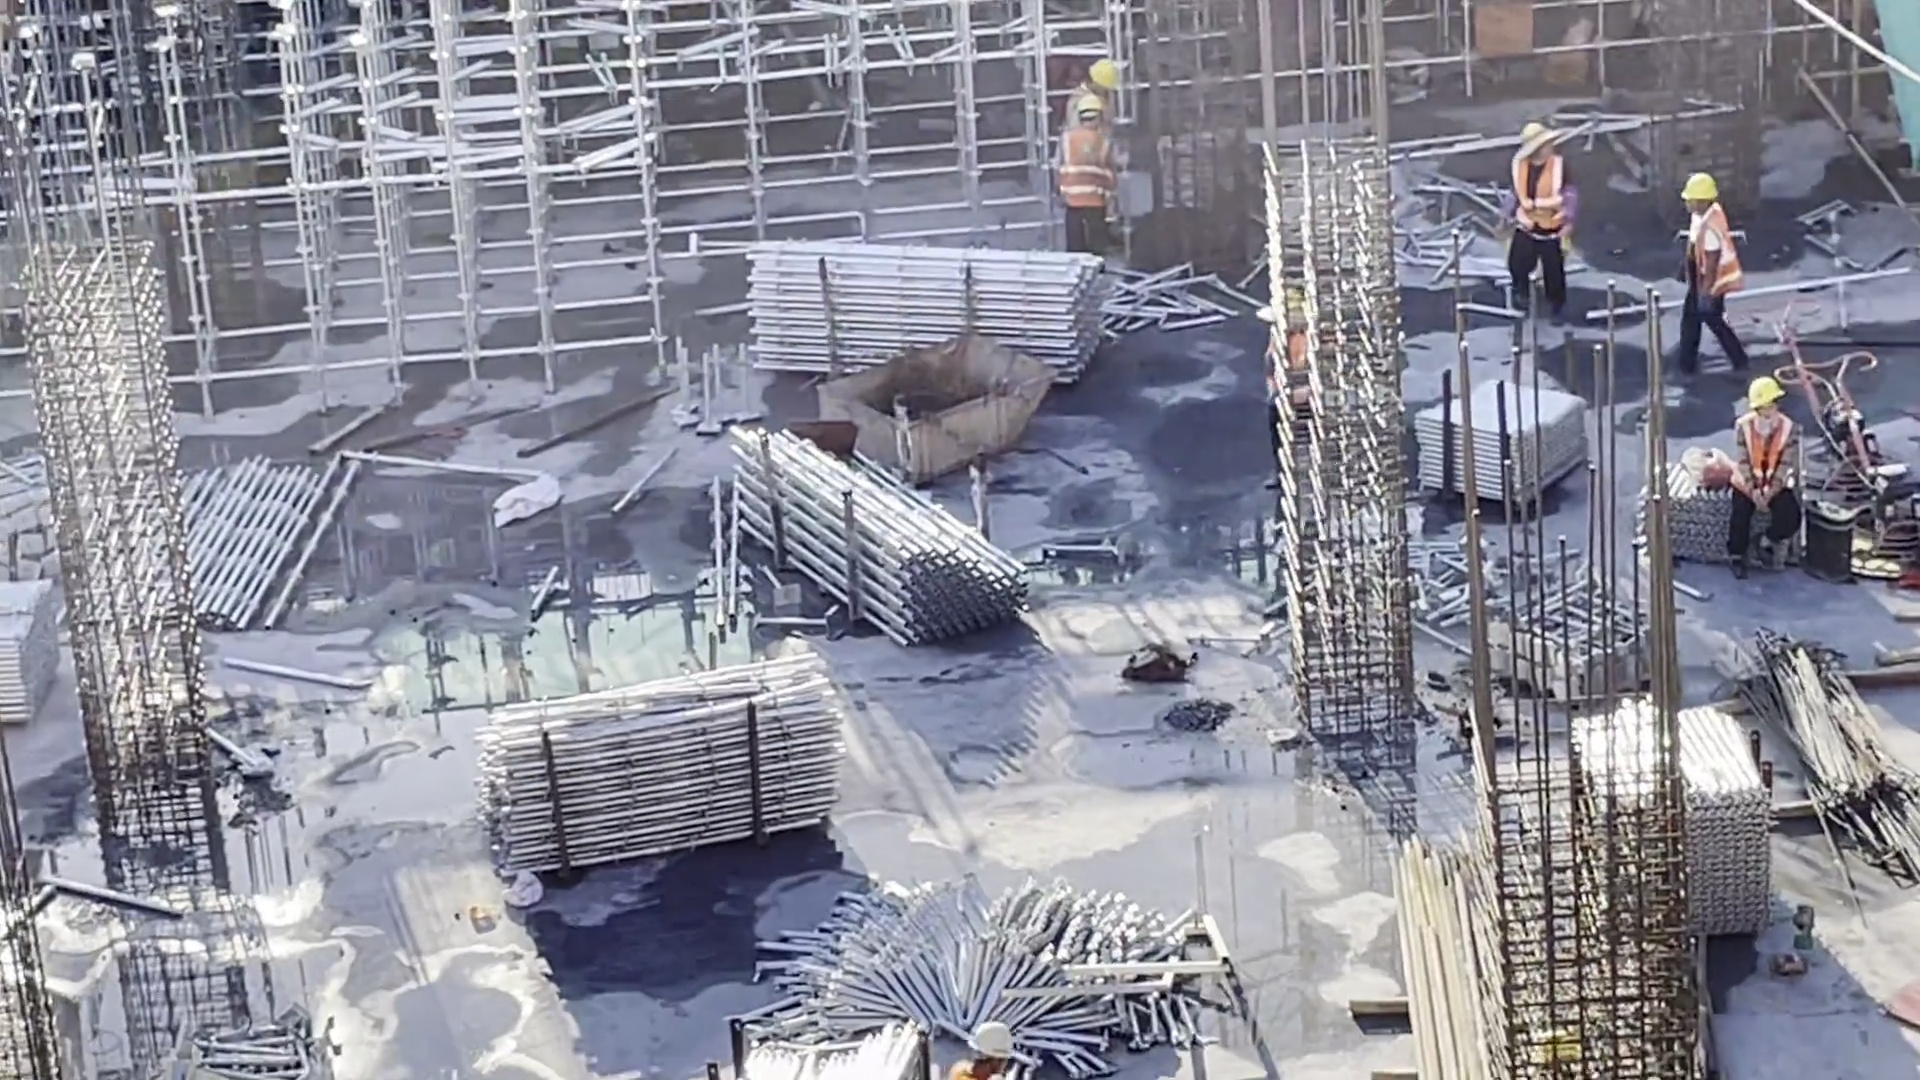helmet: (971, 1024, 1020, 1060), (1523, 123, 1563, 160), (1090, 56, 1128, 94), (1682, 179, 1727, 210), (1746, 380, 1785, 414), (1084, 96, 1104, 118)
hopper: (845, 346, 1048, 461)
person: (1662, 168, 1762, 378), (1724, 375, 1811, 586), (1499, 121, 1578, 328), (1048, 98, 1130, 257), (1056, 58, 1123, 154), (945, 1021, 1024, 1080)
rebar: (1764, 640, 1920, 898)
scaffold: (749, 899, 1213, 1061), (451, 693, 808, 856), (760, 433, 999, 623), (1589, 712, 1779, 933), (784, 247, 1116, 369), (161, 461, 355, 628), (1448, 391, 1571, 495), (697, 1017, 887, 1080), (1, 554, 49, 719)
vest: (1515, 161, 1575, 242), (1682, 222, 1743, 299), (1062, 137, 1120, 215), (1744, 421, 1793, 481)
